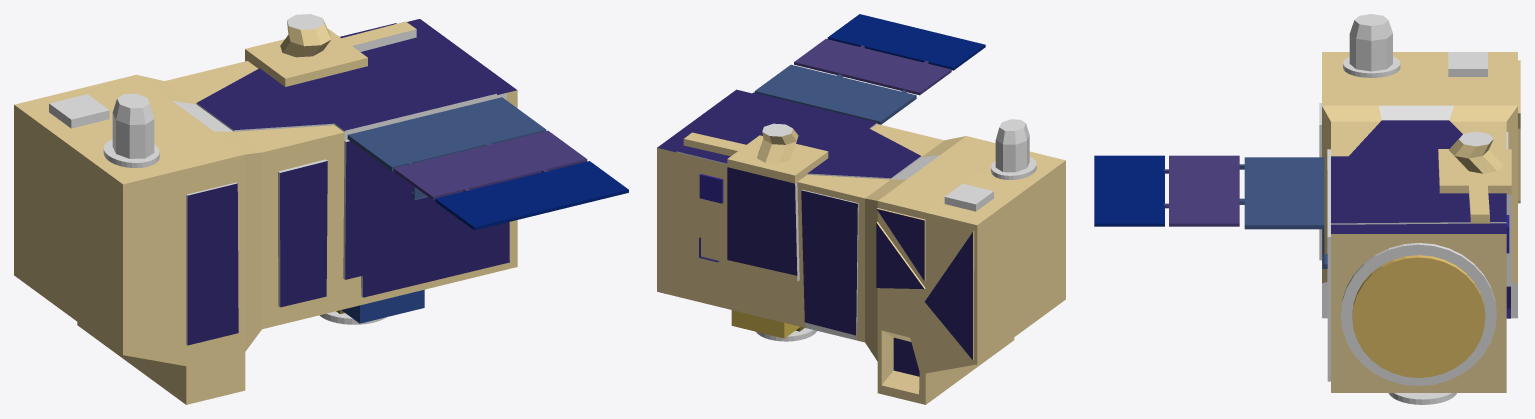
Rendered from sentinel2.glb.
3 renders of one model, left to right at view 1: azimuth 30°, elevation 25°; view 2: azimuth 150°, elevation 25°; view 3: azimuth 270°, elevation 25°, orthographic. The views are drawn at different scales.
Parts seen in each view (by area): view 1: Cube, Cubo.005, Cubo.007, Cubo.006, Cilindro.005, Cilindro.002, Cubo.002, Cubo.008, Cilindro.004; view 2: Cube, Cubo.005, Cubo.006, Cubo.007, Cilindro.005, Cilindro.002, Cubo.003, Cubo.008, Cubo, Cilindro.004, Cilindro.003; view 3: Cube, Cilindro, Cubo.005, Cubo.006, Cubo.007, Cilindro.001, Cilindro.005, Cilindro.002, Cubo.008, Cilindro.003, Cilindro.004.
Boxes of the visible parts, x1,y1,x2,y2 form: Cube: (14, 19, 517, 404); Cubo.005: (347, 97, 546, 199); Cubo.007: (435, 161, 628, 230); Cubo.006: (393, 130, 587, 199); Cilindro.005: (112, 93, 154, 158); Cilindro.002: (280, 14, 331, 57); Cubo.002: (341, 289, 424, 323); Cubo.008: (49, 94, 109, 128); Cilindro.004: (103, 139, 159, 168); Cube: (657, 89, 1065, 404); Cubo.005: (754, 64, 916, 124); Cubo.006: (794, 39, 951, 95); Cubo.007: (827, 14, 985, 70); Cilindro.005: (995, 119, 1029, 172); Cilindro.002: (757, 123, 798, 163); Cubo.003: (731, 310, 800, 338); Cubo.008: (944, 183, 993, 211); Cubo: (699, 174, 723, 203); Cilindro.004: (991, 157, 1036, 179); Cilindro.003: (756, 328, 816, 341); Cube: (1319, 52, 1520, 392); Cilindro: (1352, 255, 1485, 377); Cubo.005: (1239, 157, 1327, 268); Cubo.006: (1163, 155, 1239, 226); Cubo.007: (1094, 155, 1164, 226); Cilindro.001: (1340, 243, 1496, 385); Cilindro.005: (1349, 14, 1392, 71); Cilindro.002: (1449, 131, 1503, 173); Cubo.008: (1448, 52, 1487, 76); Cilindro.003: (1388, 393, 1456, 404); Cilindro.004: (1343, 56, 1400, 77).
Bounding box in the file's own units: 9.57 × 6.48 × 9.58.
